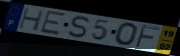5: (90, 19, 112, 42)
E: (39, 10, 68, 37)
F: (133, 24, 161, 50)
H: (17, 7, 45, 32)
O: (114, 22, 140, 47)
S: (67, 16, 91, 39)
